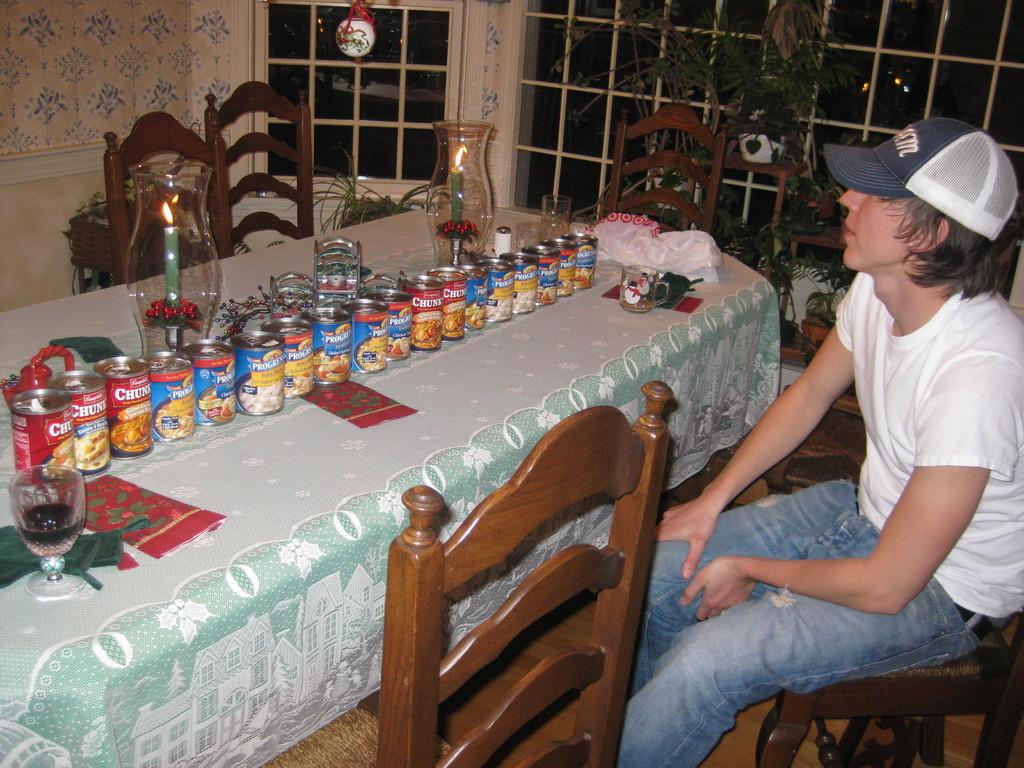Hat: (823, 117, 1021, 241)
